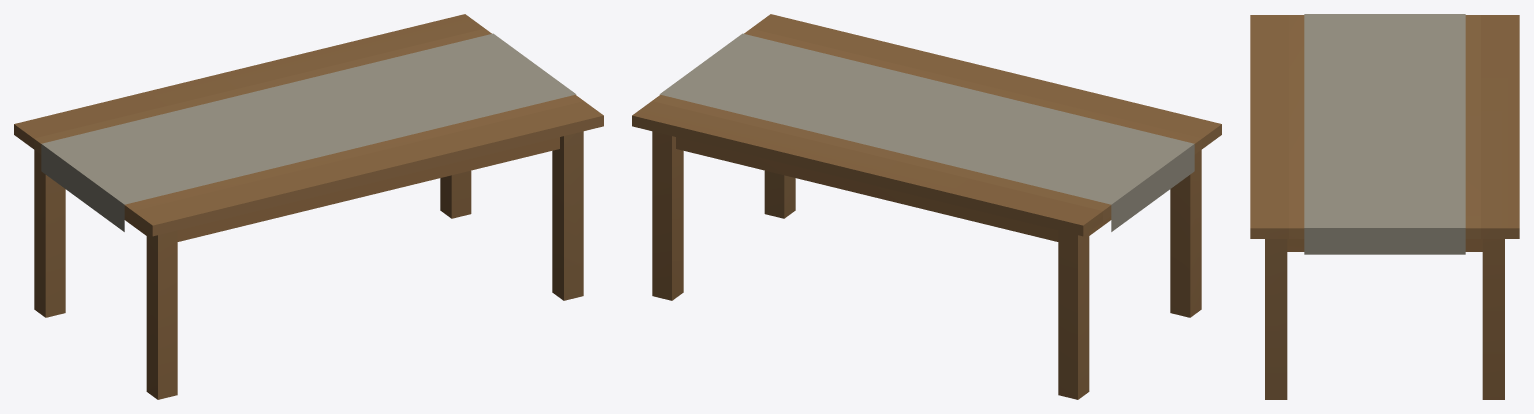
File: table.dining.cloth.glb
The picture shows the model from 3 angles, left to right: view 1: azimuth 30°, elevation 25°; view 2: azimuth 150°, elevation 25°; view 3: azimuth 270°, elevation 25°; orthographic projection. The views are drawn at different scales.
Visible parts, largest first — view 1: table_dining_cloth; view 2: table_dining_cloth; view 3: table_dining_cloth.
Part boxes in pixels (x1,y1,x2,y2): table_dining_cloth: (14,14,603,399); table_dining_cloth: (632,14,1221,399); table_dining_cloth: (1250,14,1519,399).
Size of what is drawn, in the model's own units: 2.06 by 0.8 by 1.1.
